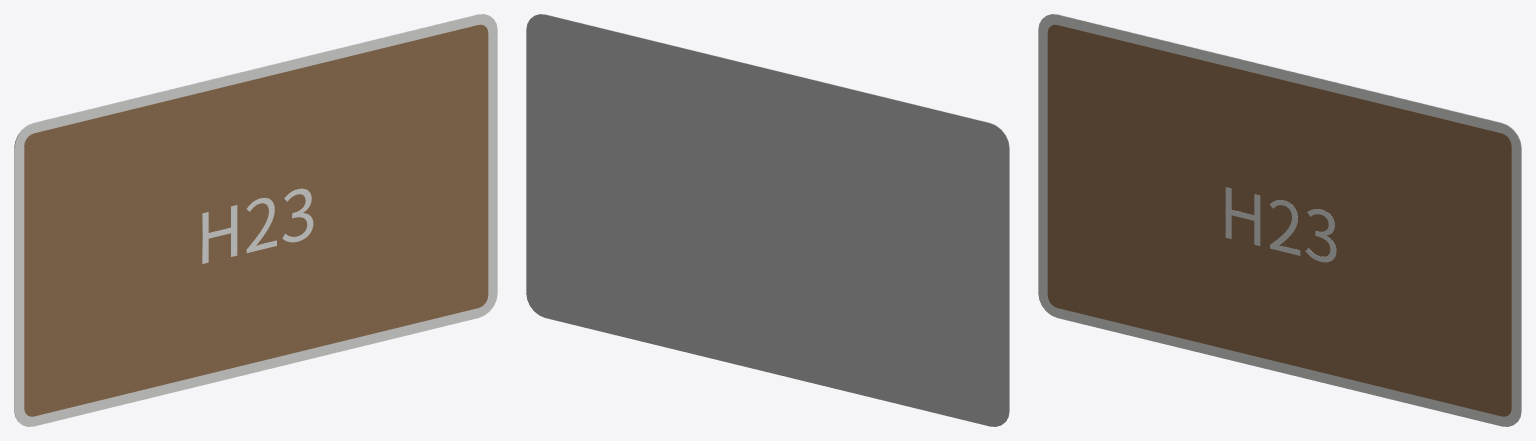
3 renders of one model, left to right at view 1: azimuth 30°, elevation 25°; view 2: azimuth 150°, elevation 25°; view 3: azimuth 330°, elevation 25°, orthographic.
Parts seen in each view (by area): view 1: H23_fond01, H23_cadre00, H23_txt02, H23_dos; view 2: H23_dos; view 3: H23_fond01, H23_cadre00, H23_txt02, H23_dos.
Part boxes in pixels (<box>): H23_fond01: <box>24,24,488,416</box>; H23_cadre00: <box>14,14,497,426</box>; H23_txt02: <box>202,188,313,263</box>; H23_dos: <box>14,14,487,420</box>; H23_dos: <box>526,14,1009,426</box>; H23_fond01: <box>1047,24,1511,416</box>; H23_cadre00: <box>1038,14,1521,426</box>; H23_txt02: <box>1225,187,1336,262</box>; H23_dos: <box>1048,14,1521,420</box>.
Bounding box in the file's own units: 1 × 0.6 × 0.0025.
